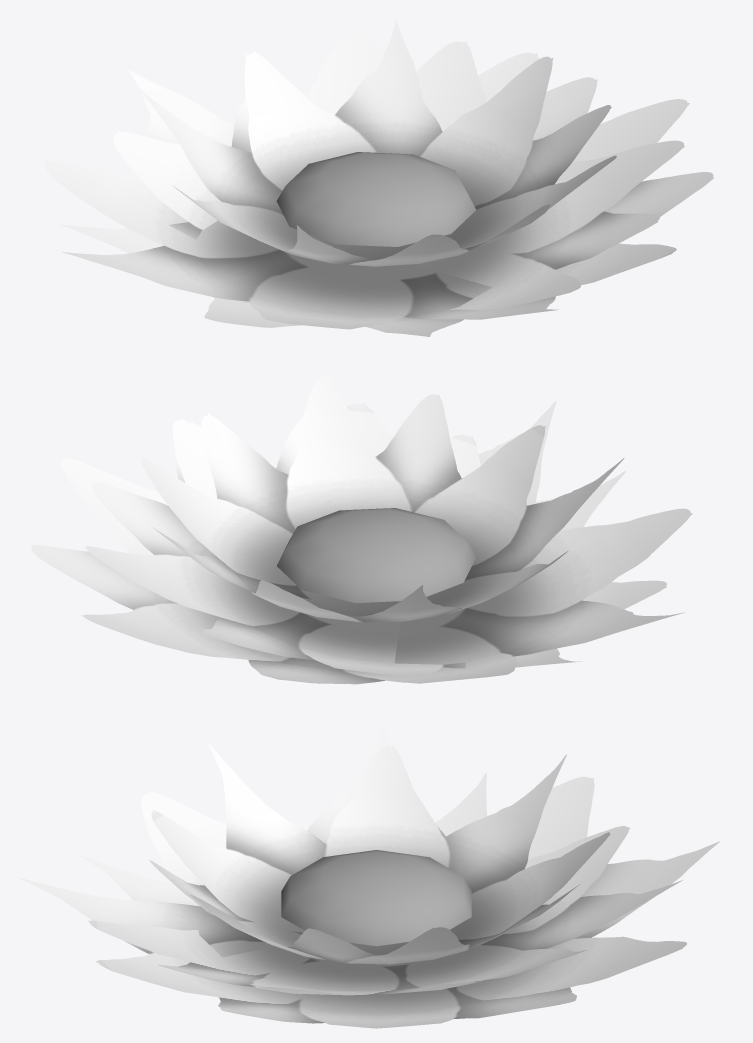
File: VG_Water_Lily_Flower 1.fbx
3 renders of one model, top to bottom at view 1: azimuth 30°, elevation 25°; view 2: azimuth 150°, elevation 25°; view 3: azimuth 270°, elevation 25°, orthographic.
Visible parts, largest first — view 1: VG_Water_Lily_Flower; view 2: VG_Water_Lily_Flower; view 3: VG_Water_Lily_Flower.
Boxes of the visible parts, <box> form: VG_Water_Lily_Flower: <box>45,20,713,336</box>; VG_Water_Lily_Flower: <box>30,376,692,684</box>; VG_Water_Lily_Flower: <box>17,725,720,1028</box>.
Size of the model in its own units: 53.67 by 10.46 by 53.67.
